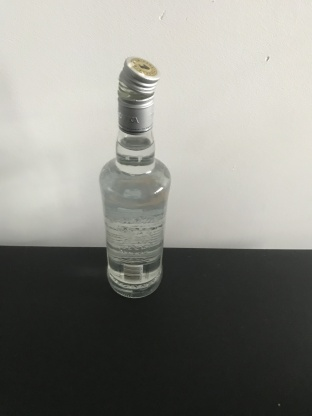nakretka: (116, 53, 160, 135)
